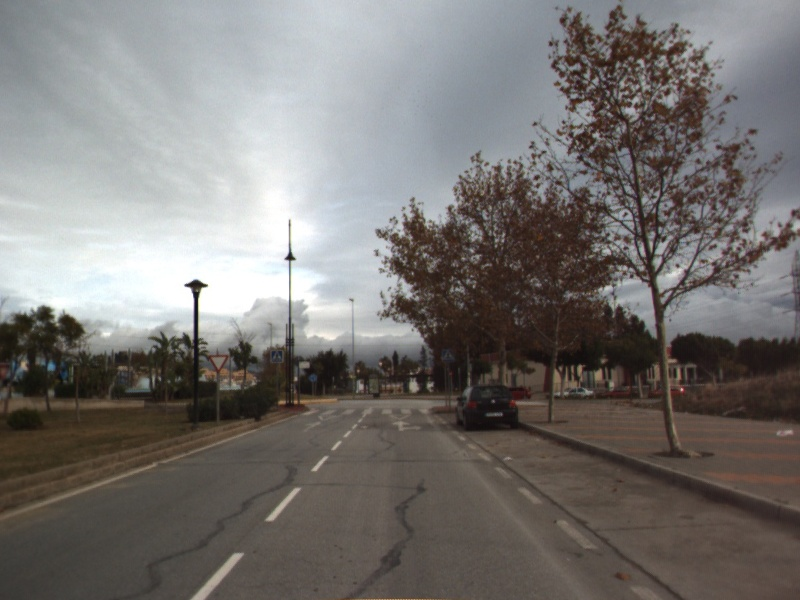STRAIGHT: (300, 420, 325, 434)
STRAIGHT_RIGHT: (390, 418, 424, 433)
